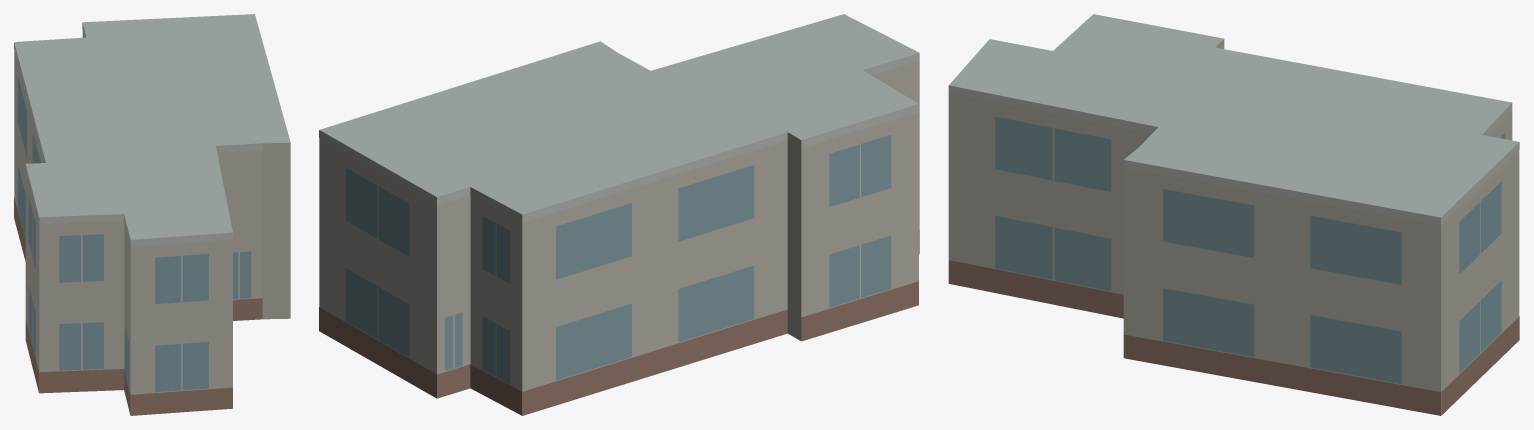
File: survey-upis-32783036.glb
The picture shows the model from 3 angles, left to right: view 1: azimuth 30°, elevation 25°; view 2: azimuth 150°, elevation 25°; view 3: azimuth 270°, elevation 25°; orthographic projection. The views are drawn at different scales.
Parts seen in each view (by area): view 1: survey-upis-32783036.tmp; view 2: survey-upis-32783036.tmp; view 3: survey-upis-32783036.tmp.
Part boxes in pixels (x1,y1,x2,y2): survey-upis-32783036.tmp: (14, 14, 290, 415); survey-upis-32783036.tmp: (319, 14, 919, 415); survey-upis-32783036.tmp: (948, 14, 1519, 415).
Size of the model in its own units: 13.43 by 6.1 by 15.92.
